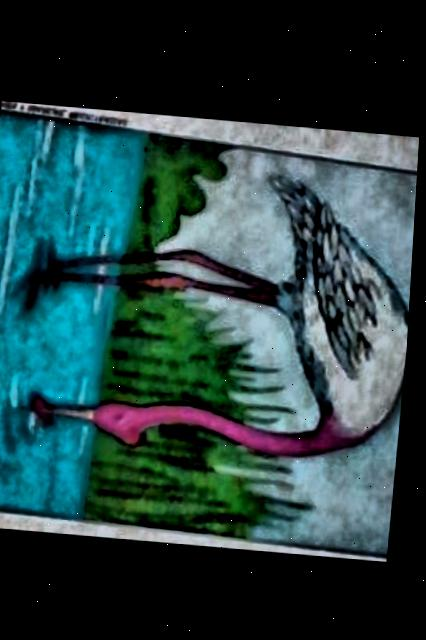La Garza: (0, 107, 419, 551)
